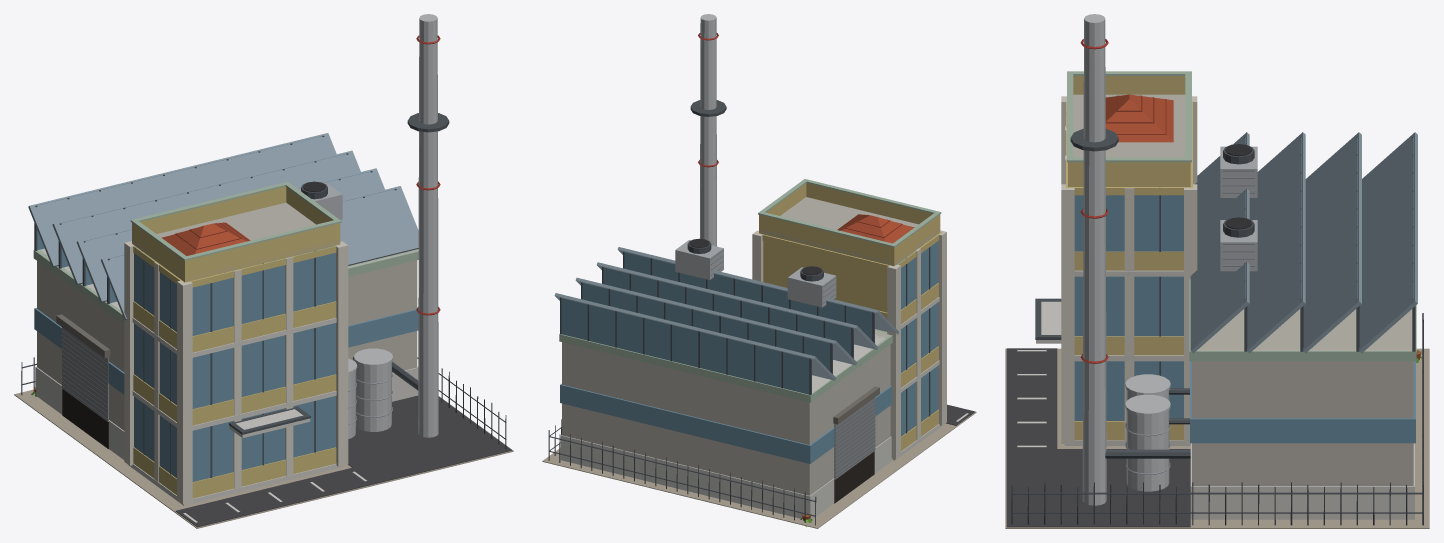
The model's file is factory_3.glb.
The picture shows the model from 3 angles, left to right: view 1: azimuth 30°, elevation 25°; view 2: azimuth 150°, elevation 25°; view 3: azimuth 270°, elevation 25°; orthographic projection. The views are drawn at different scales.
Parts seen in each view (by area): view 1: body, windows; view 2: body, windows; view 3: body.
Part boxes in pixels (x1,y1,x2,y2): body: (14,14,513,528); windows: (62,389,108,449); body: (542,14,976,528); windows: (834,451,874,503); body: (1005,14,1429,528).
Bounding box in the file's own units: 15.9 × 20.29 × 15.9.
